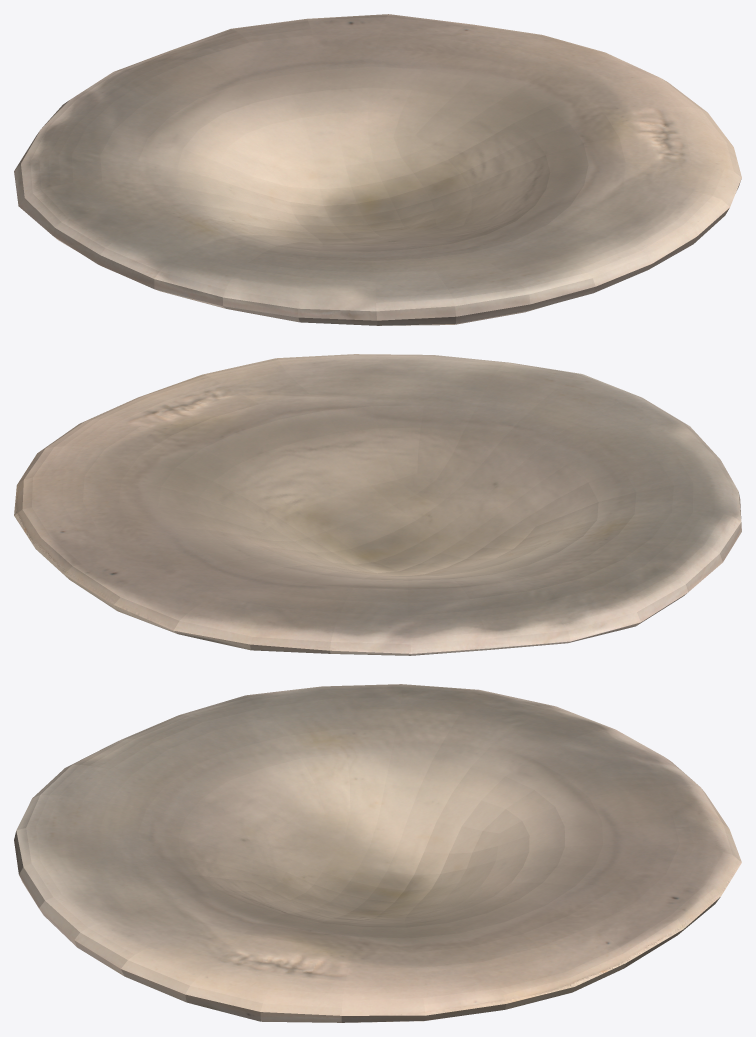
File: 202_origin.fbx
3 renders of one model, top to bottom at view 1: azimuth 30°, elevation 25°; view 2: azimuth 150°, elevation 25°; view 3: azimuth 270°, elevation 25°, orthographic. The views are drawn at different scales.
Parts seen in each view (by area): view 1: default_Retopo; view 2: default_Retopo; view 3: default_Retopo.
Part boxes in pixels (x1,y1,x2,y2): default_Retopo: (14, 14, 741, 325); default_Retopo: (14, 354, 741, 655); default_Retopo: (14, 684, 741, 1022).
Bounding box in the file's own units: 124 × 15.8 × 121.
1 material, 1 textured.
